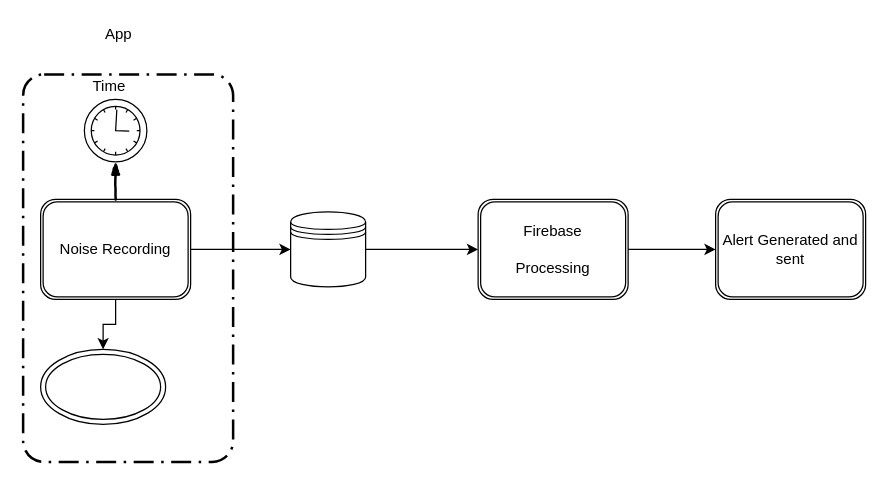
This 888x484 diagram has some shape labels left out. Here are the shapes that lost their labels. From the top down, the centre of each, then its label:
[327,249]: Cloud MQTT
[102,386]: Measurement of Db level
